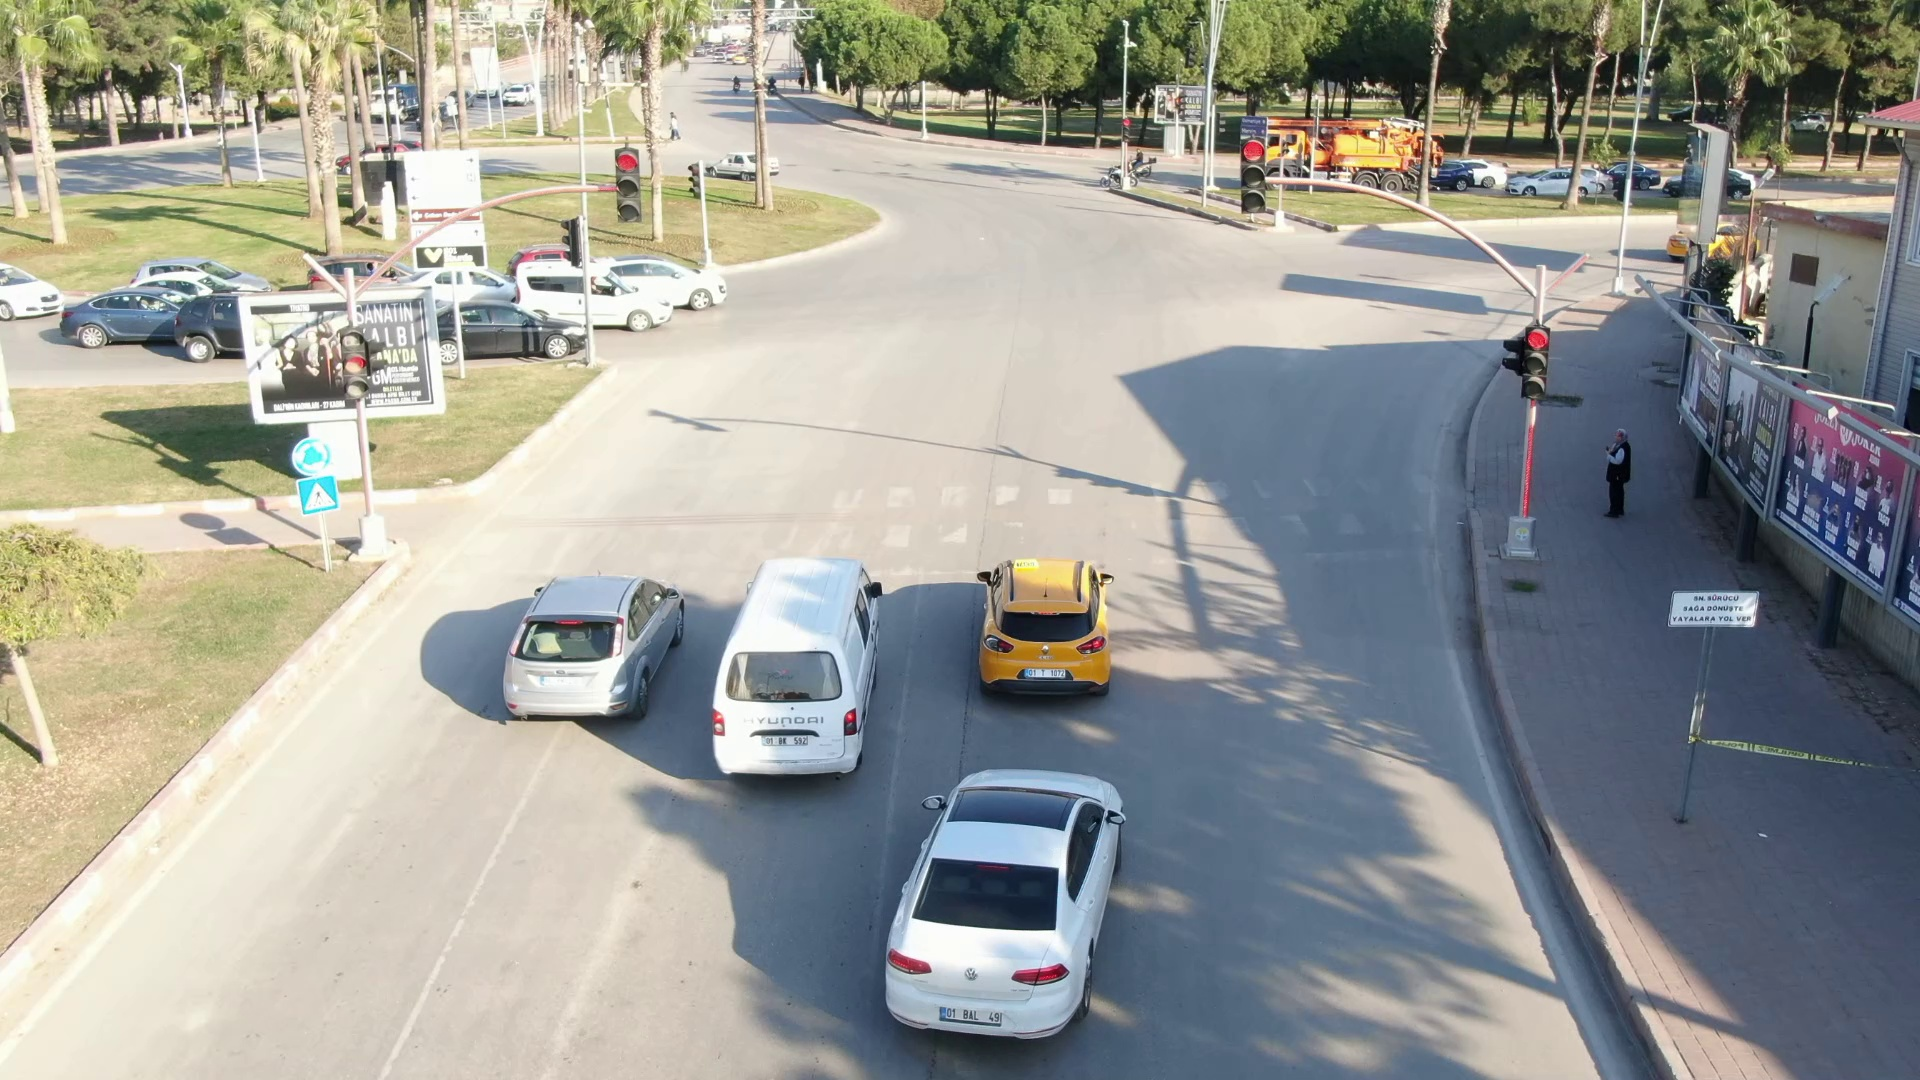car: (878, 766, 1129, 1047), (698, 556, 892, 783), (490, 572, 690, 741), (965, 559, 1125, 702), (517, 259, 678, 333), (441, 294, 598, 365), (590, 257, 727, 304)
person: (1600, 425, 1639, 527)
